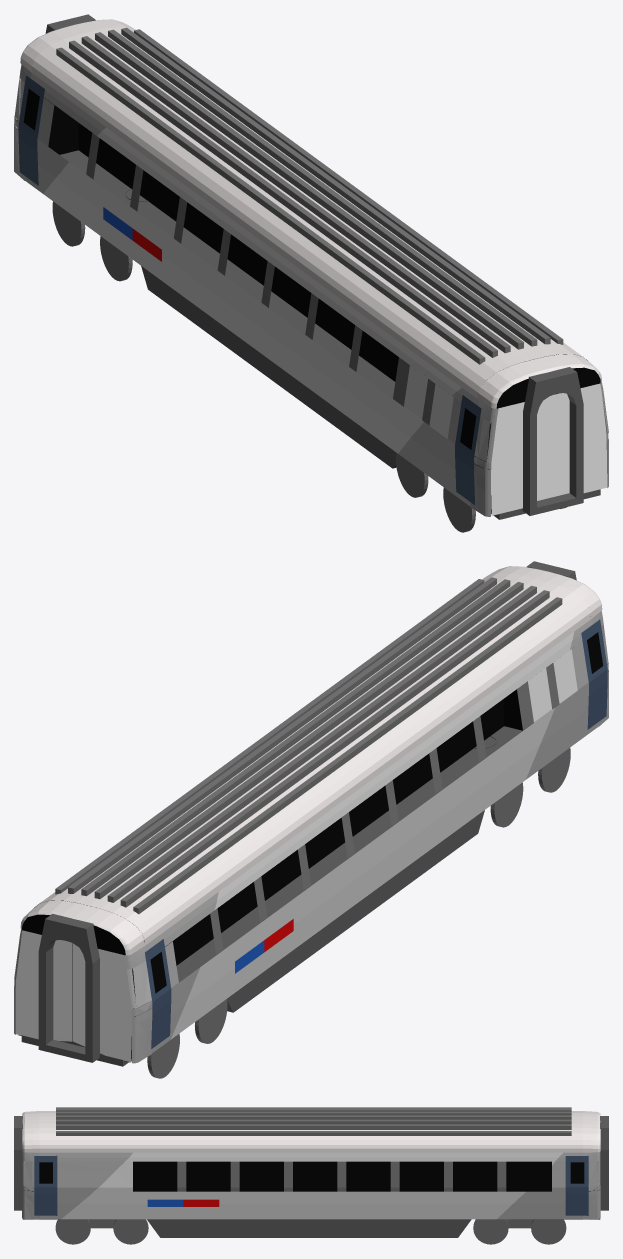
The model's file is br-mk4-to-nxec.dae.
3 renders of one model, top to bottom at view 1: azimuth 30°, elevation 25°; view 2: azimuth 150°, elevation 25°; view 3: azimuth 270°, elevation 25°, orthographic. The views are drawn at different scales.
Visible parts, largest first — view 1: Suzanne_001, Plane_134, Plane_100, Plane_111, Plane_002, Cube_002, Cube_008, Cube_004, Cube_003, Tube_002, Cube_009, Cube (+19 smaller); view 2: Suzanne_001, Plane_134, Plane_001, Plane_111, Plane_002, Tube_003, Cube_002, Cube_008, Cube_004, Cube_003, Cube_009, Cube (+18 smaller); view 3: Plane_007, Plane_111, Suzanne_001, Cube, Plane_153, Cube_009, Cube_010, Cube_004, Cube_008, Cube_011, Plane_005, Plane_152 (+28 smaller).
Boxes of the visible parts, bbox=[...] form: Suzanne_001: bbox=[31, 27, 587, 398]; Plane_134: bbox=[24, 152, 470, 506]; Plane_100: bbox=[491, 383, 607, 515]; Plane_111: bbox=[78, 123, 398, 381]; Plane_002: bbox=[60, 150, 486, 469]; Cube_002: bbox=[69, 40, 497, 357]; Cube_008: bbox=[95, 32, 523, 349]; Cube_004: bbox=[81, 36, 510, 353]; Cube_003: bbox=[56, 47, 485, 364]; Tube_002: bbox=[522, 367, 583, 515]; Cube_009: bbox=[108, 29, 537, 346]; Cube: bbox=[141, 266, 396, 468]; Suzanne_001: bbox=[34, 573, 590, 945]; Plane_134: bbox=[152, 696, 598, 1053]; Plane_001: bbox=[15, 930, 132, 1062]; Plane_111: bbox=[72, 699, 503, 1041]; Plane_002: bbox=[59, 726, 522, 1055]; Tube_003: bbox=[38, 913, 99, 1062]; Cube_002: bbox=[120, 590, 549, 907]; Cube_008: bbox=[94, 582, 523, 899]; Cube_004: bbox=[107, 585, 536, 902]; Cube_003: bbox=[133, 597, 562, 914]; Cube_009: bbox=[81, 579, 510, 896]; Cube: bbox=[227, 810, 484, 1012]; Plane_007: bbox=[39, 1195, 582, 1219]; Plane_111: bbox=[24, 1161, 597, 1191]; Suzanne_001: bbox=[39, 1111, 582, 1152]; Cube: bbox=[147, 1219, 471, 1237]; Plane_153: bbox=[39, 1152, 582, 1157]; Cube_009: bbox=[56, 1119, 571, 1124]; Cube_010: bbox=[56, 1124, 571, 1129]; Cube_004: bbox=[56, 1111, 571, 1115]; Cube_008: bbox=[56, 1115, 571, 1119]; Cube_011: bbox=[56, 1131, 571, 1135]; Plane_005: bbox=[57, 1191, 565, 1195]; Plane_152: bbox=[57, 1157, 565, 1161].
Size of the model in its own units: 2.11 by 13.39 by 2.81.
